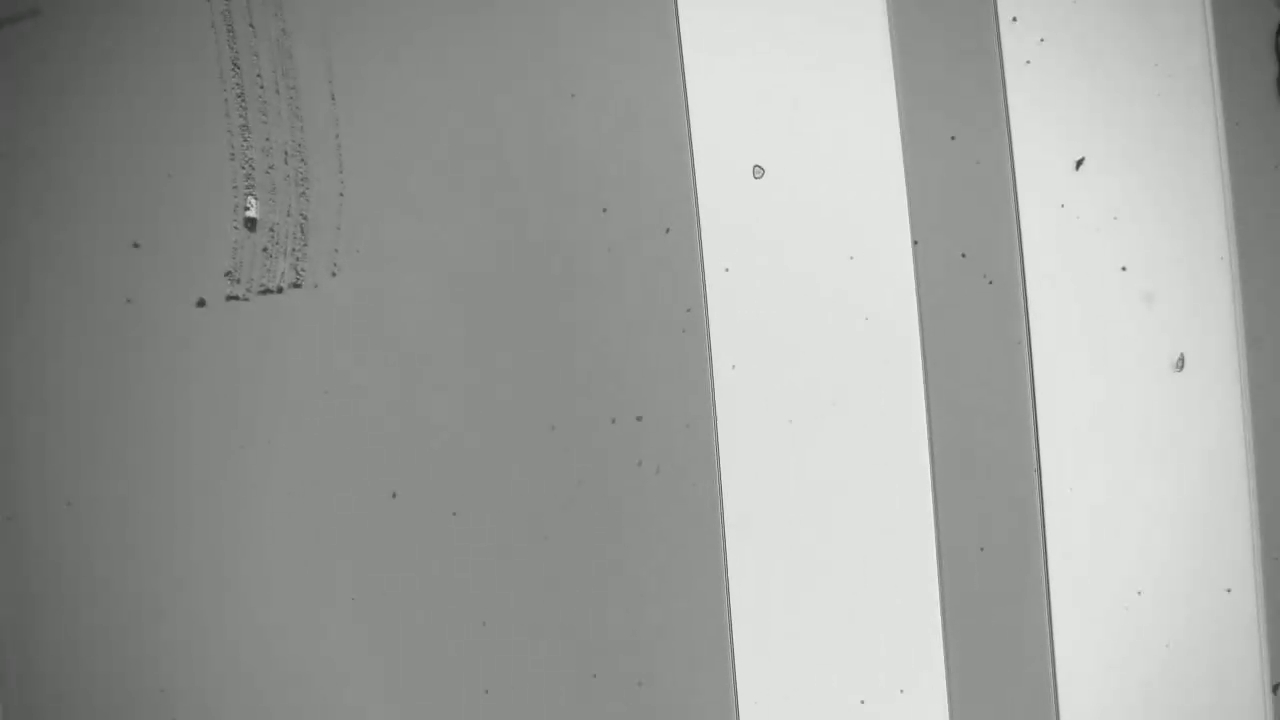scratch: (203, 4, 341, 317)
